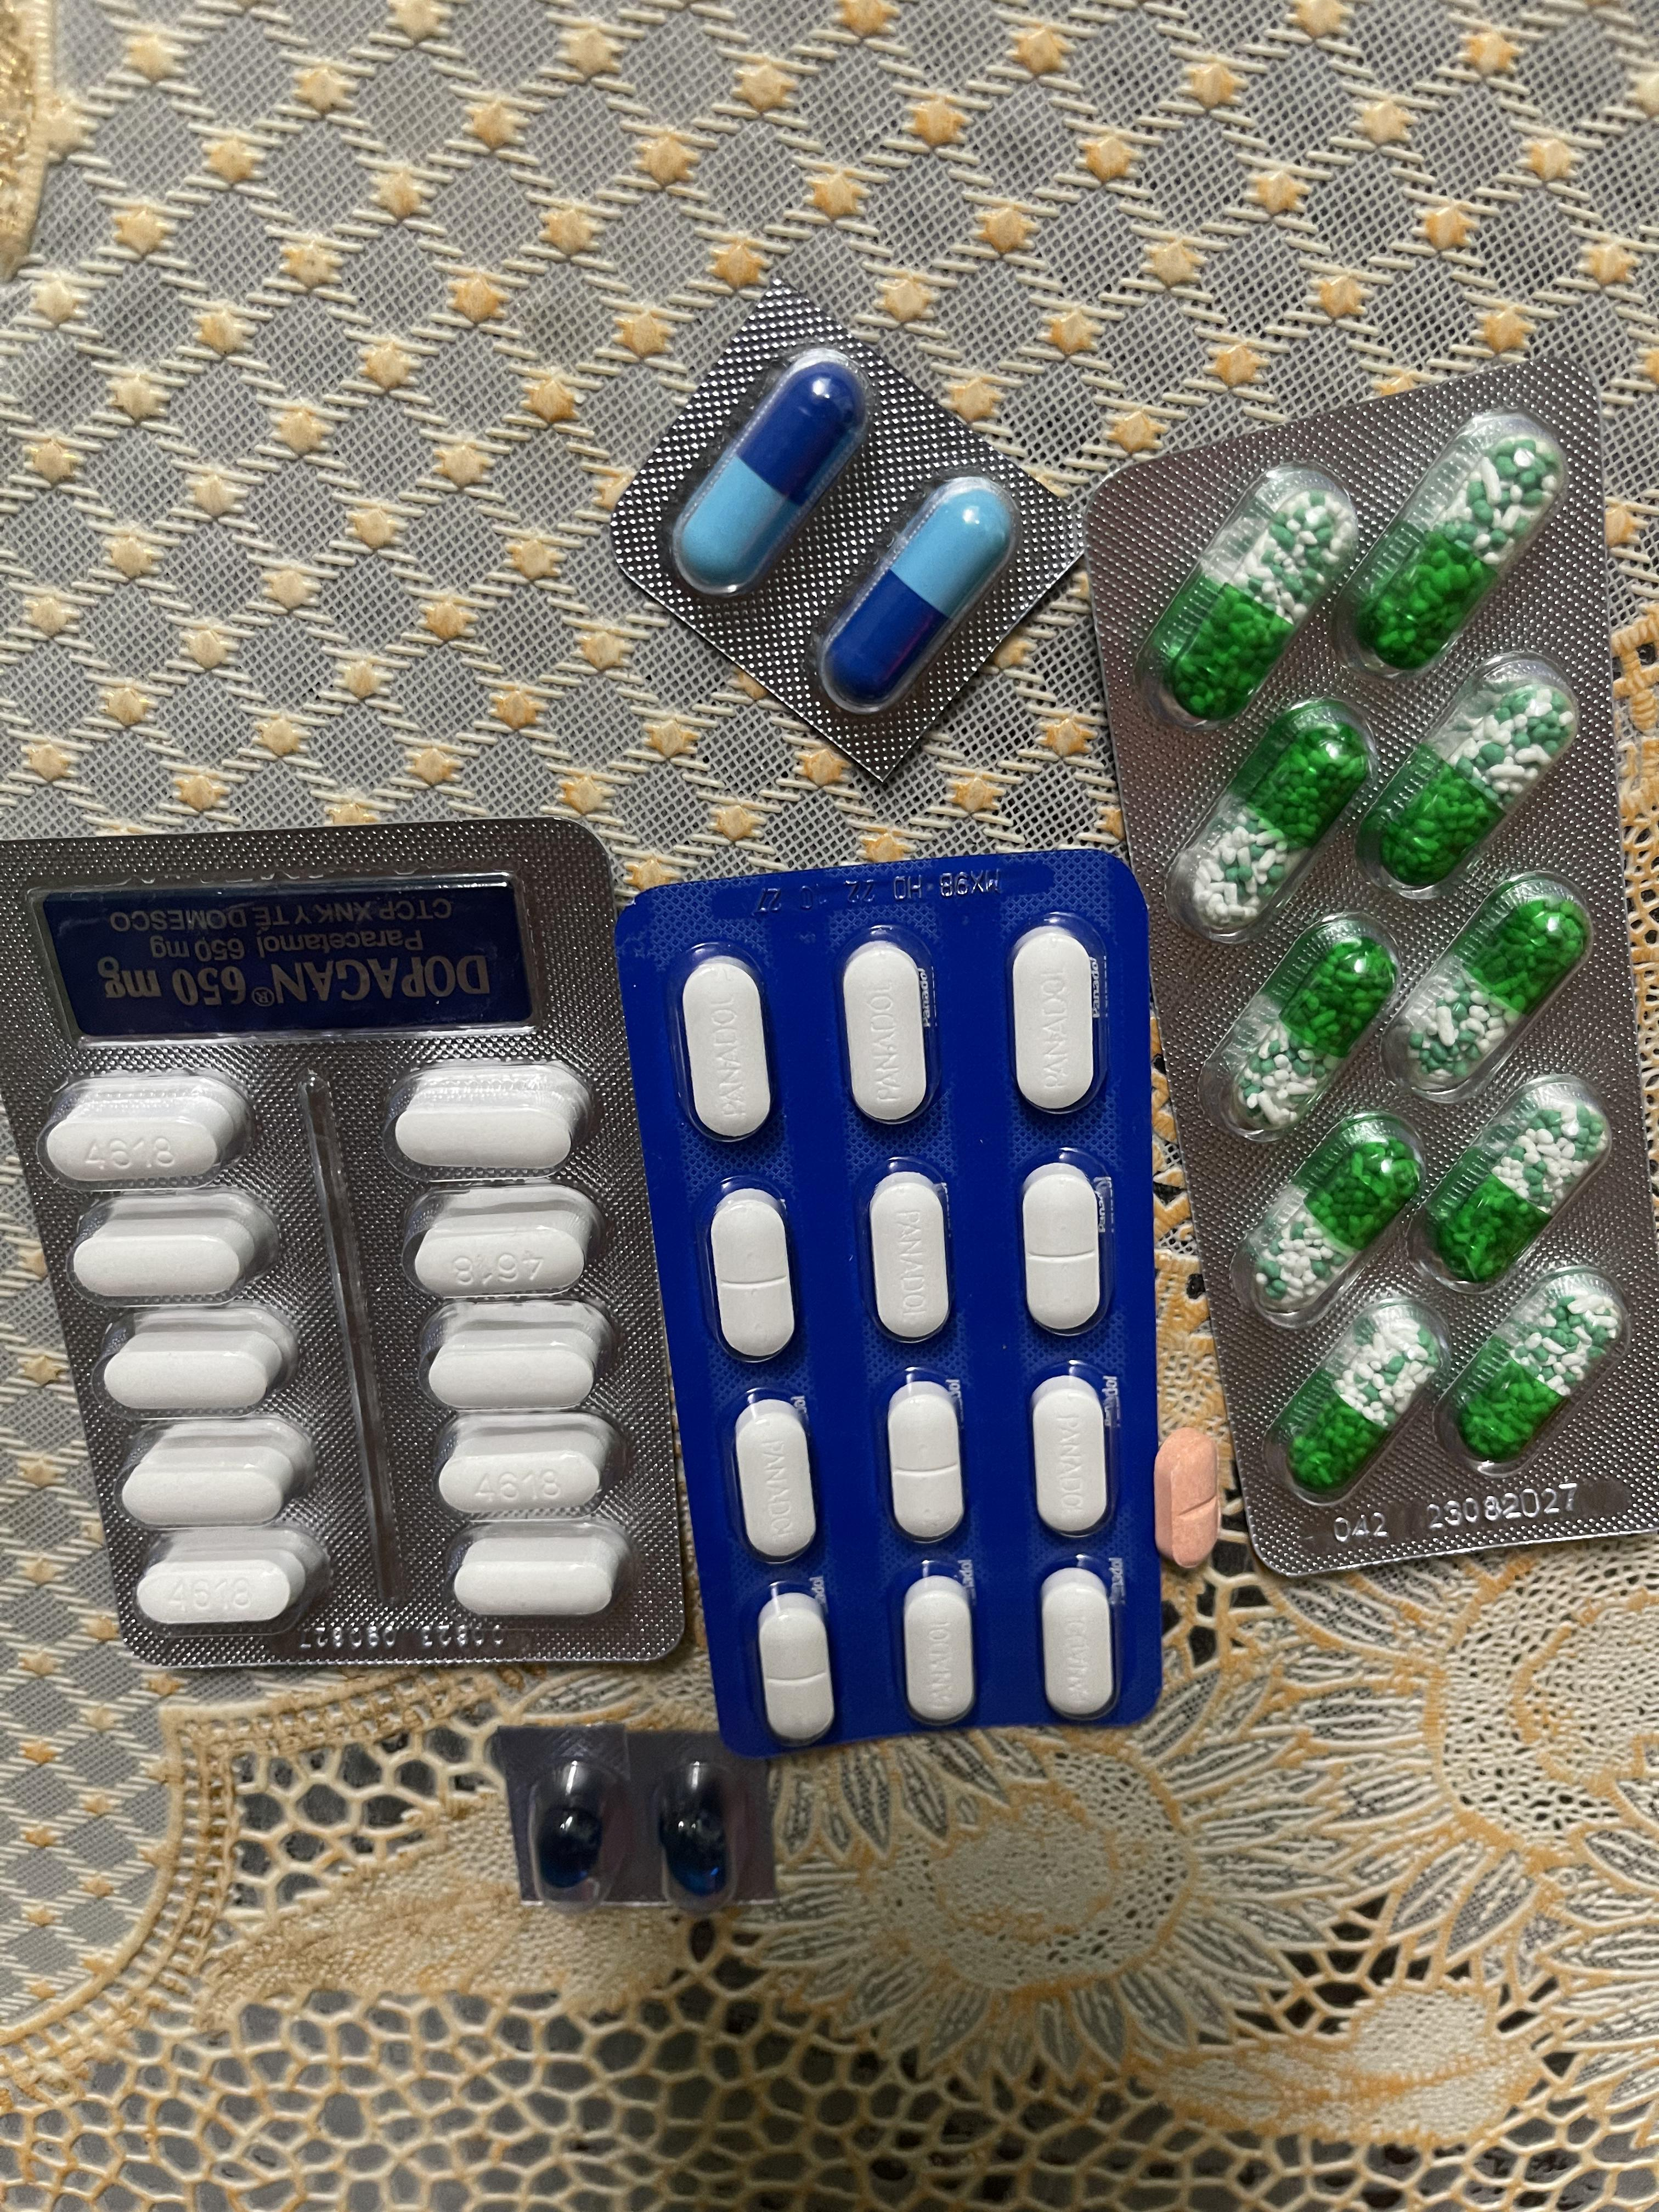Lincomyxin_500mg: (533, 1792, 603, 1890), (659, 1801, 728, 1895)
Loratadine_10mg: (1157, 1423, 1218, 1566)
Paracetamol_350mg: (842, 939, 932, 1122), (1009, 927, 1098, 1113), (683, 960, 774, 1139), (709, 1190, 795, 1360), (868, 1172, 951, 1343), (1019, 1163, 1103, 1332), (734, 1397, 817, 1561), (885, 1374, 964, 1540), (1032, 1374, 1110, 1538), (1039, 1566, 1117, 1723), (758, 1588, 835, 1745), (903, 1571, 976, 1728)
Paracetamol_500mg: (408, 1186, 601, 1298), (389, 1069, 591, 1176), (71, 1200, 274, 1303), (119, 1423, 310, 1531), (103, 1308, 298, 1409), (423, 1310, 608, 1413), (437, 1413, 620, 1515), (451, 1524, 627, 1620), (49, 1092, 230, 1184), (136, 1548, 307, 1627)
Paracetamol_650mg: (1169, 488, 1358, 726), (1366, 437, 1560, 664), (1391, 900, 1591, 1092), (1378, 690, 1574, 881), (1216, 918, 1396, 1116), (1429, 1085, 1608, 1277), (1199, 726, 1371, 920), (1448, 1280, 1624, 1461), (1249, 1129, 1420, 1313), (1281, 1308, 1445, 1489)
pill: (676, 362, 868, 589), (828, 484, 1014, 704)
